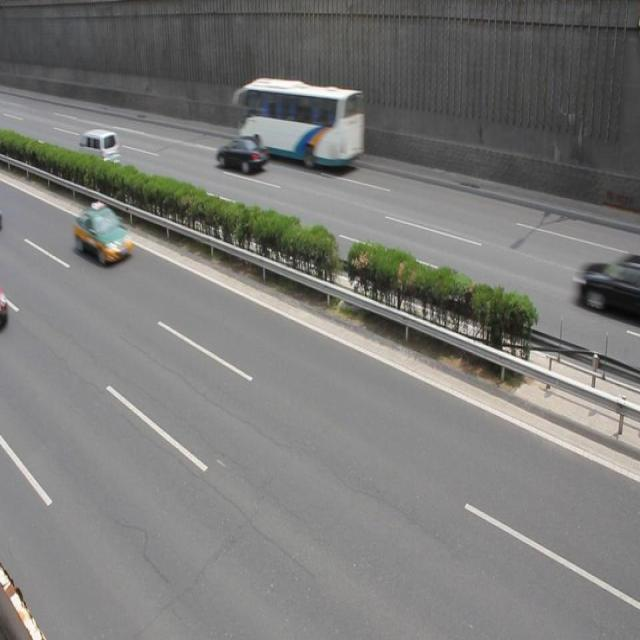car: (573, 248, 640, 316), (73, 200, 133, 265), (213, 139, 268, 174)
truck: (76, 132, 121, 173)
van: (235, 76, 363, 171)
